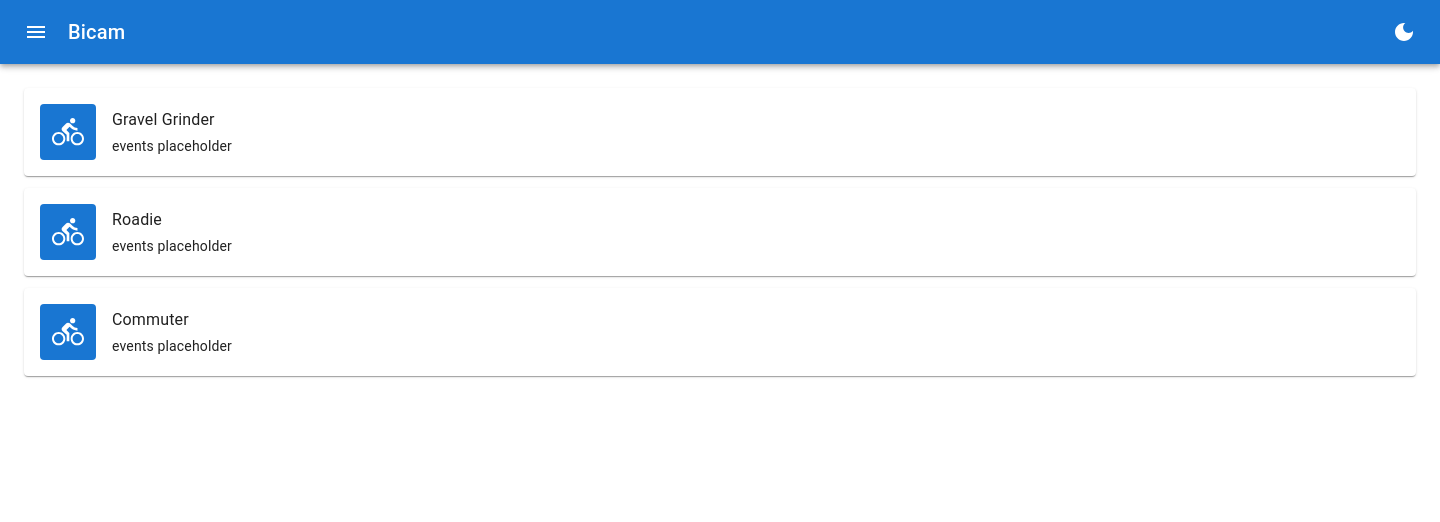
App › opens the clicked bicycle's details in place of the list
Click the button "Roadie events placeholder": click(68, 232) [24,188,1416,276]
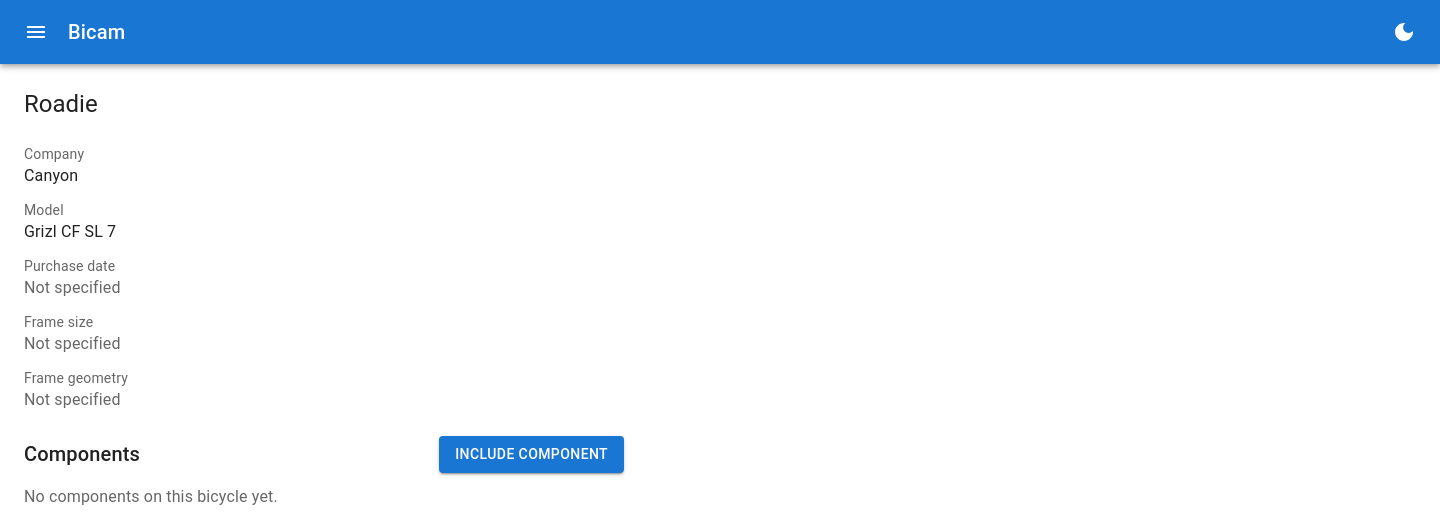
Expected: the text "Grizl CF SL 7" is shown, [24,222,116,241]
Expected: the text "No components on this bicycle yet." is shown, [24,487,278,506]
Expected: the list "Bicycles" is gone
